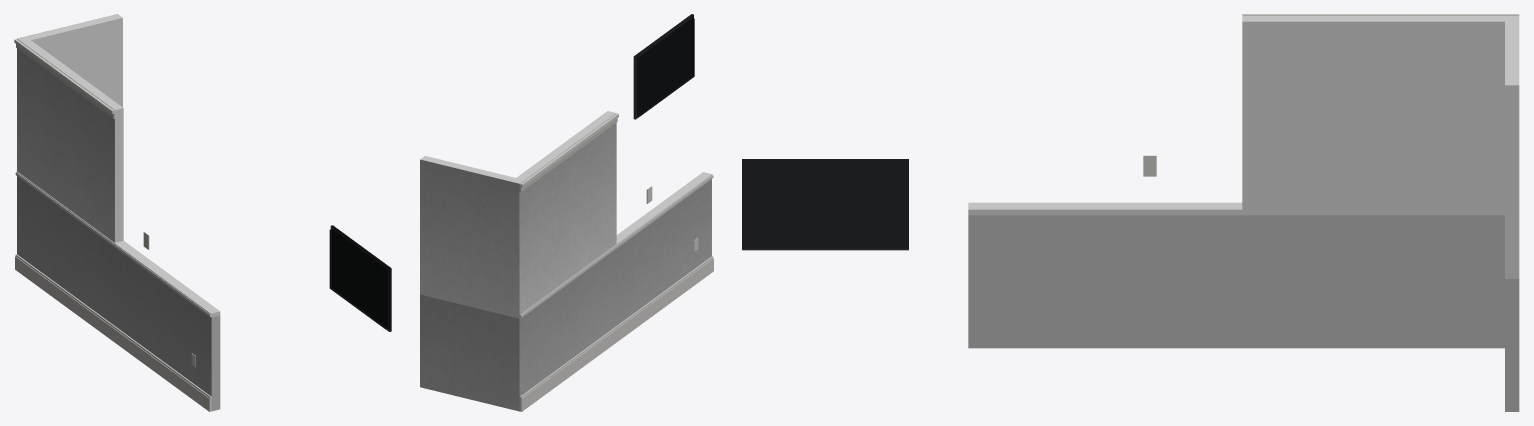
The model's file is Movie_Stair_Wall.glb.
3 renders of one model, left to right at view 1: azimuth 30°, elevation 25°; view 2: azimuth 150°, elevation 25°; view 3: azimuth 270°, elevation 25°, orthographic. The views are drawn at different scales.
Parts seen in each view (by area): view 1: root; view 2: root; view 3: root.
Boxes of the visible parts, x1,y1,x2,y2 form: root: (14, 14, 391, 411); root: (420, 14, 713, 411); root: (742, 14, 1519, 411).
Size of the model in its own units: 1.15 by 2.44 by 5.26.
Materials: 8 (2 with a texture image).
